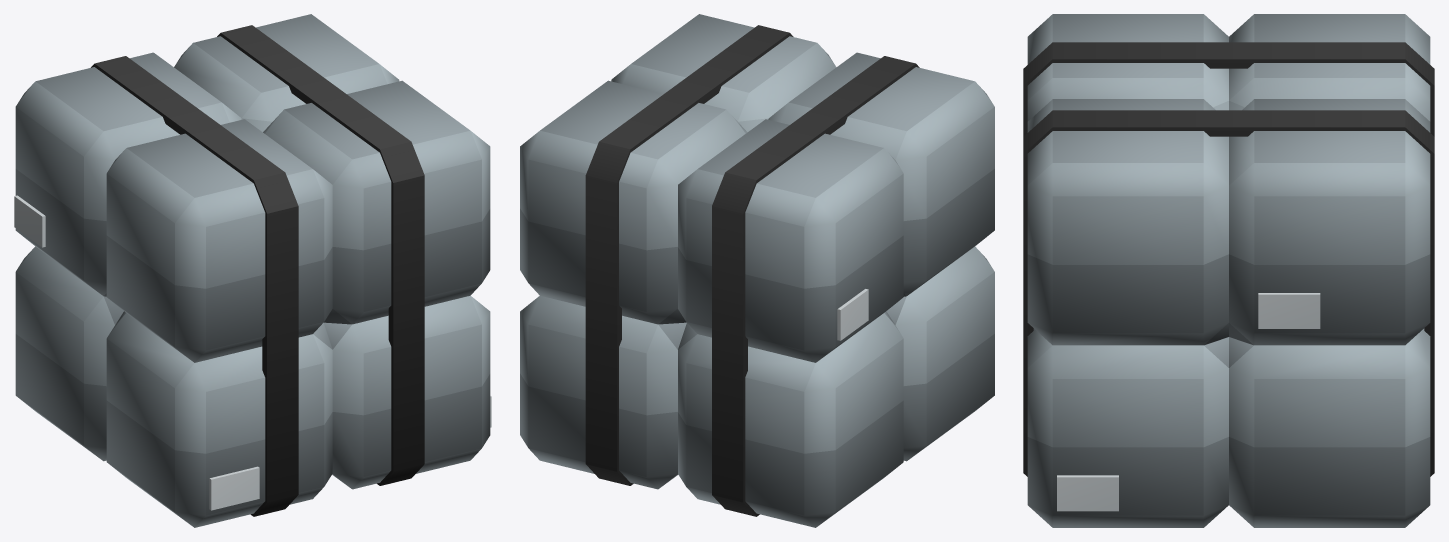
The model's file is kaykit_cargo_b_stacked_v01.glb.
3 renders of one model, left to right at view 1: azimuth 30°, elevation 25°; view 2: azimuth 150°, elevation 25°; view 3: azimuth 270°, elevation 25°, orthographic. The views are drawn at different scales.
Visible parts, largest first — view 1: cargo_B_stacked; view 2: cargo_B_stacked; view 3: cargo_B_stacked.
Part boxes in pixels (box(x1,y1,x2,y2)): cargo_B_stacked: box(14, 14, 491, 527); cargo_B_stacked: box(520, 14, 994, 527); cargo_B_stacked: box(1023, 14, 1434, 527).
Size of the model in its own units: 1.02 by 1.02 by 1.02.
1 material, 1 textured.
